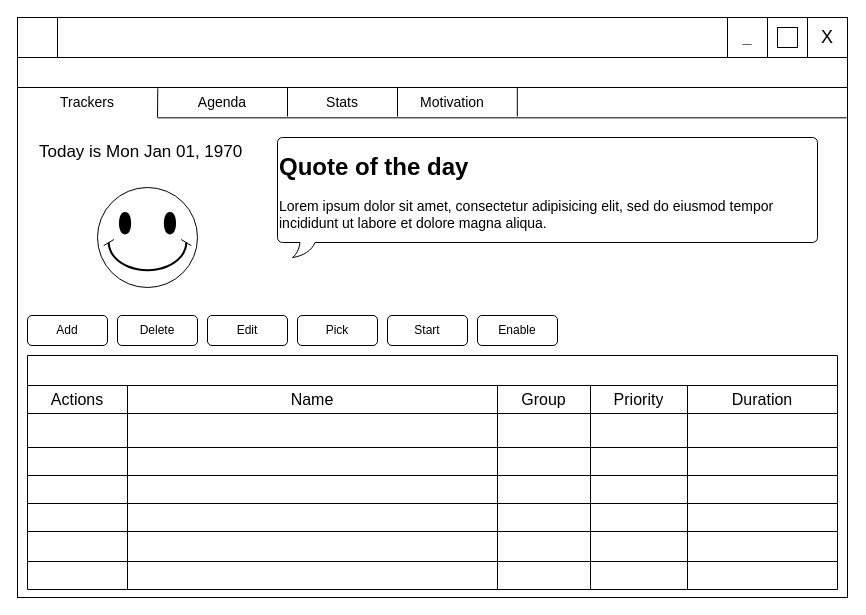
Image size: 866x615. Some labels were removed from this diagram. The shapes that lost their labels are listed below. From the top down, each one's box as (x1, y1, x2, y2) in pixels, then its label:
(16, 16, 848, 58): T Tick-a-Boo Time Traking
(16, 56, 848, 88): FIle Edit View Motivation Help
(26, 354, 838, 590): My Trackers
